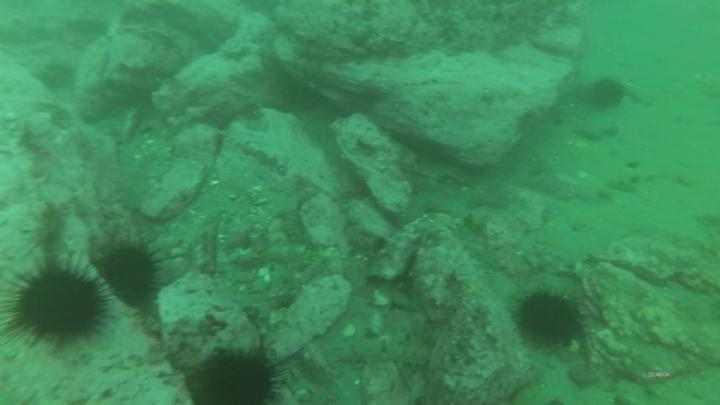echinus: (1, 254, 114, 360), (187, 343, 288, 405), (507, 281, 584, 354), (94, 241, 168, 306), (587, 73, 628, 113)
